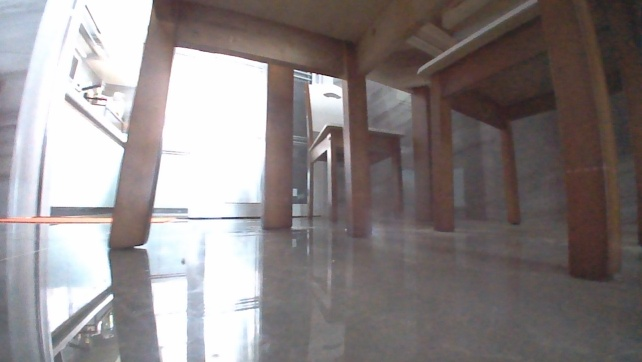dining_table1: (89, 0, 641, 284)
